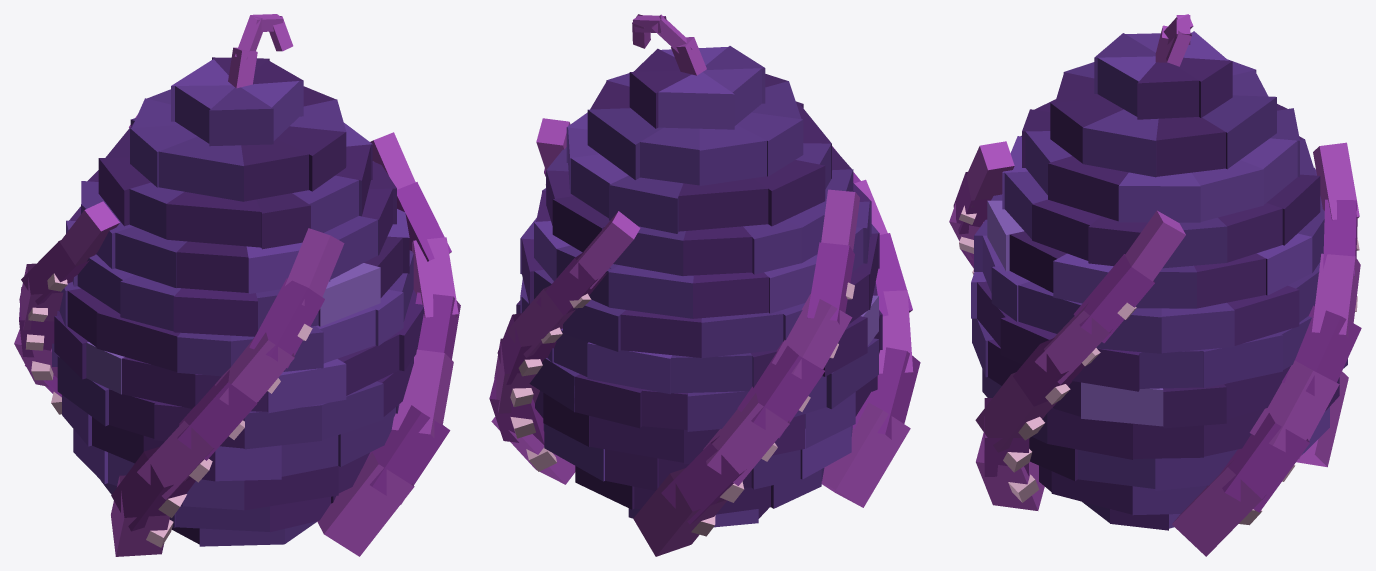
The model's file is kraken_egg.glb.
3 renders of one model, left to right at view 1: azimuth 30°, elevation 25°; view 2: azimuth 150°, elevation 25°; view 3: azimuth 270°, elevation 25°, orthographic. The views are drawn at different scales.
Parts seen in each view (by area): view 1: kraken_egg; view 2: kraken_egg; view 3: kraken_egg.
Boxes of the visible parts, <box> form: kraken_egg: <box>14,14,460,556</box>; kraken_egg: <box>489,14,920,556</box>; kraken_egg: <box>949,14,1361,556</box>.
Bounding box in the file's own units: 0.9605 × 1.24 × 0.9415.
